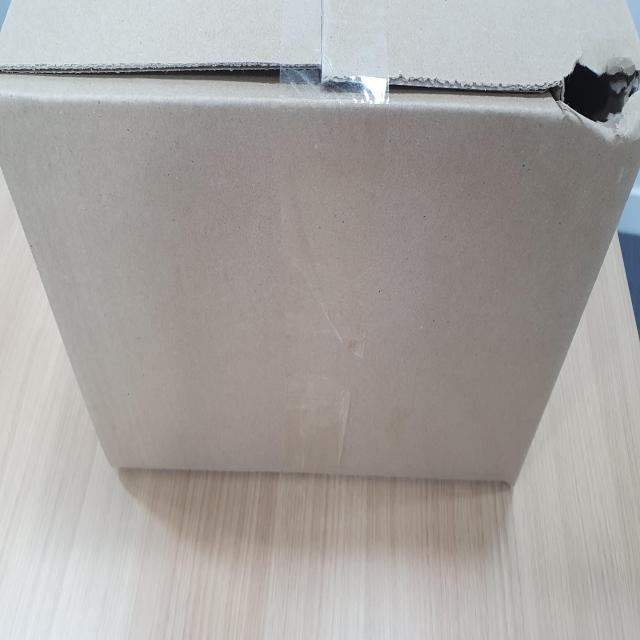damaged: (534, 48, 639, 148)
